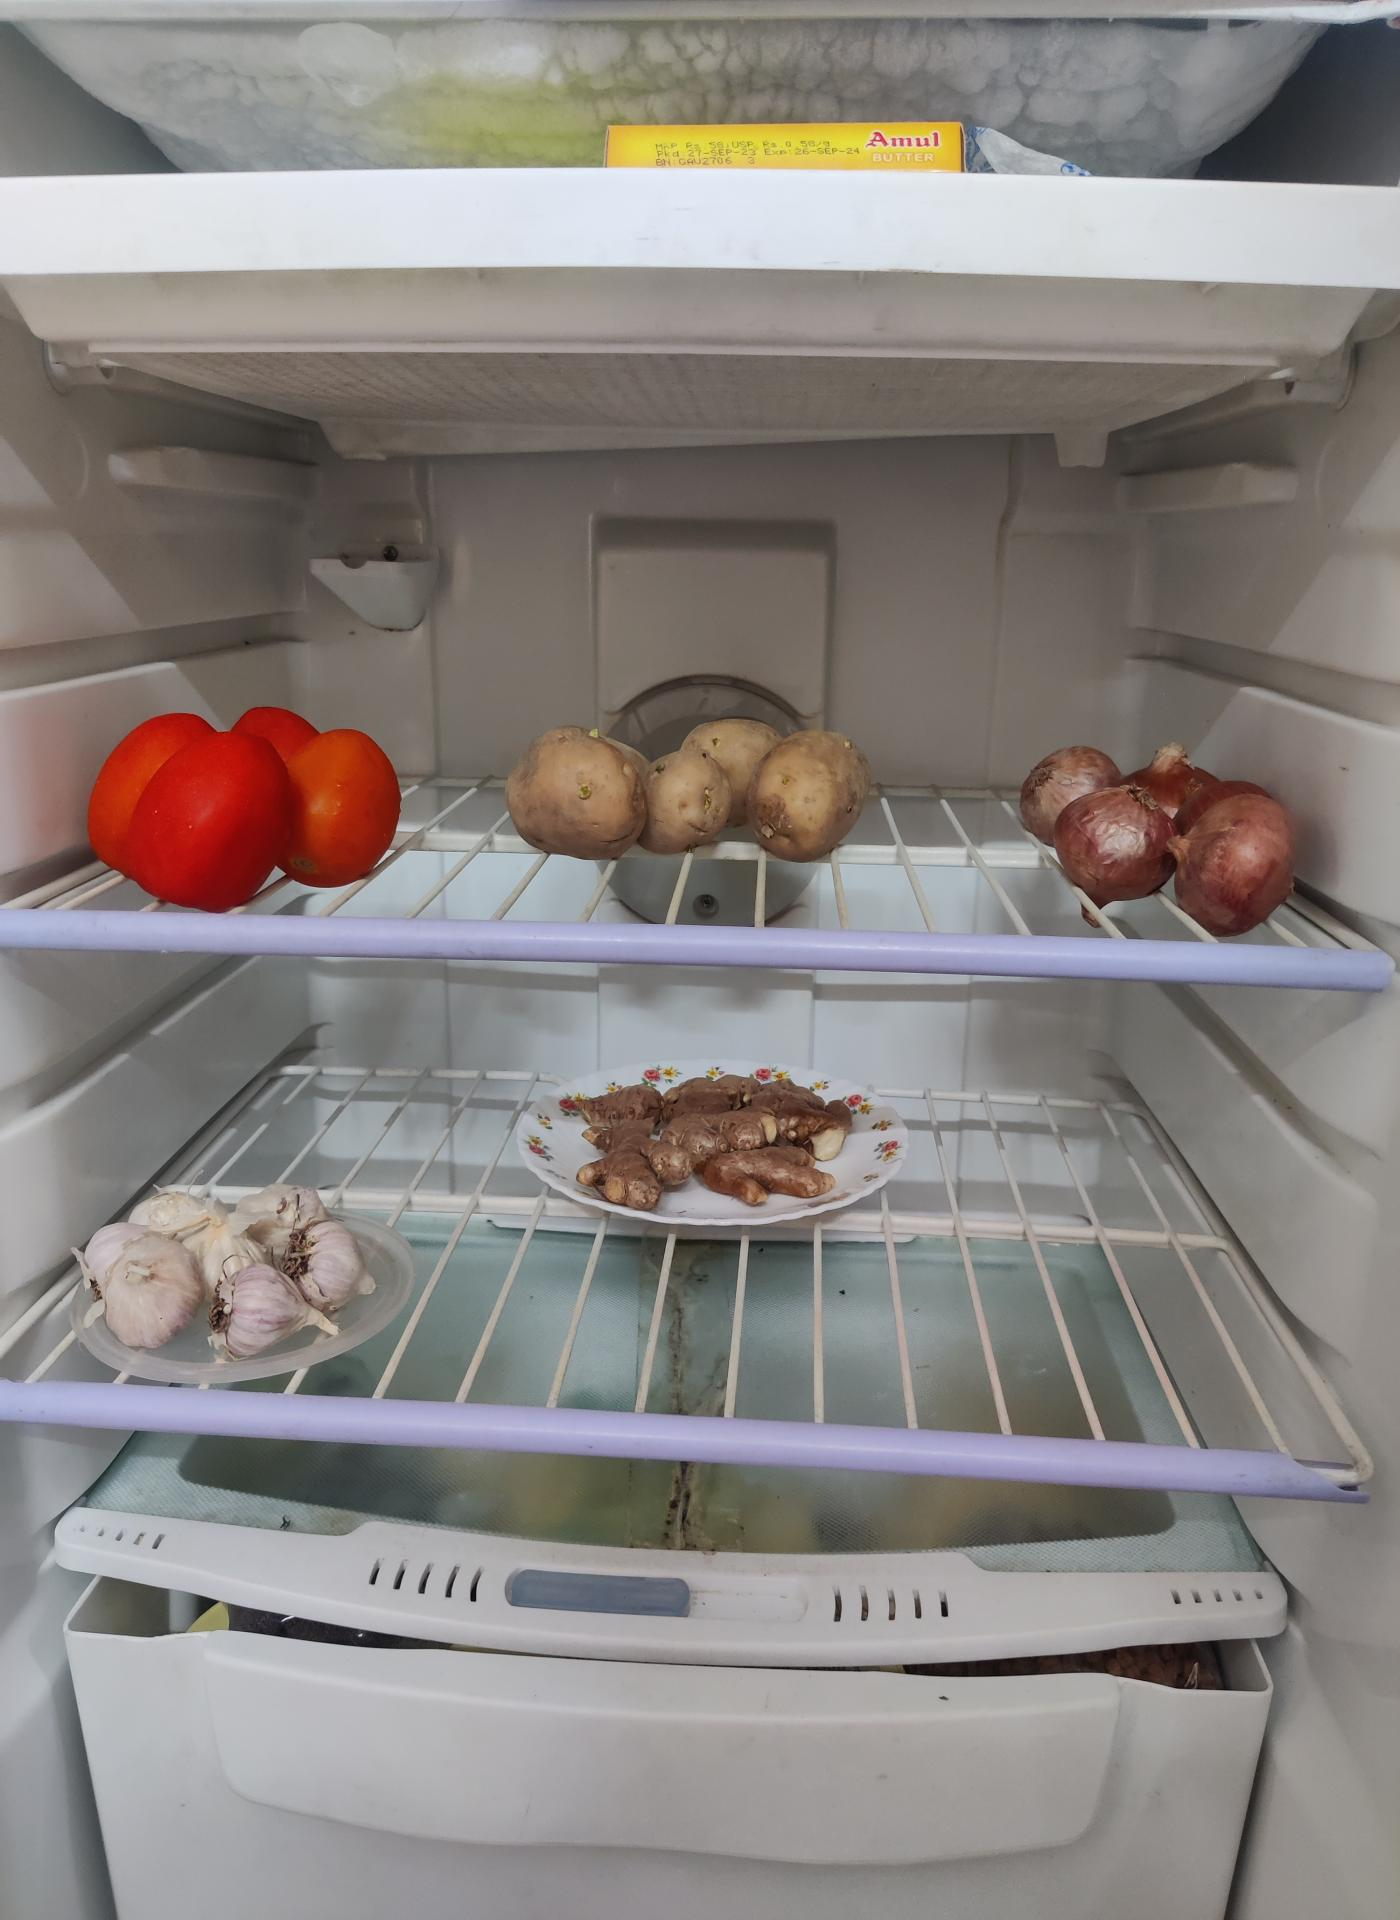garlic: (89, 1181, 373, 1352)
ginger: (538, 1066, 877, 1213)
onion: (1023, 738, 1302, 930)
potato: (510, 719, 880, 866)
tomato: (91, 710, 407, 914)
